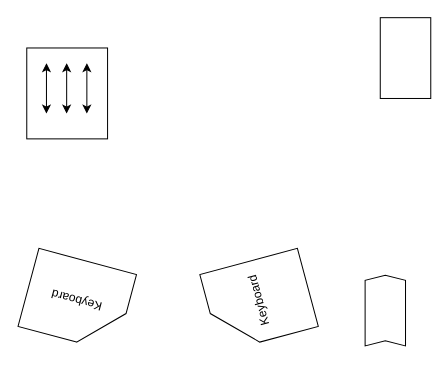
Some shapes in this 448 by 371 pixel diagram are drawn without their labels. Each missing label, with the centre of its shape:
"Mouse" belongs at pixel 385 310.
"PMK Dongle" belongs at pixel 405 57.
